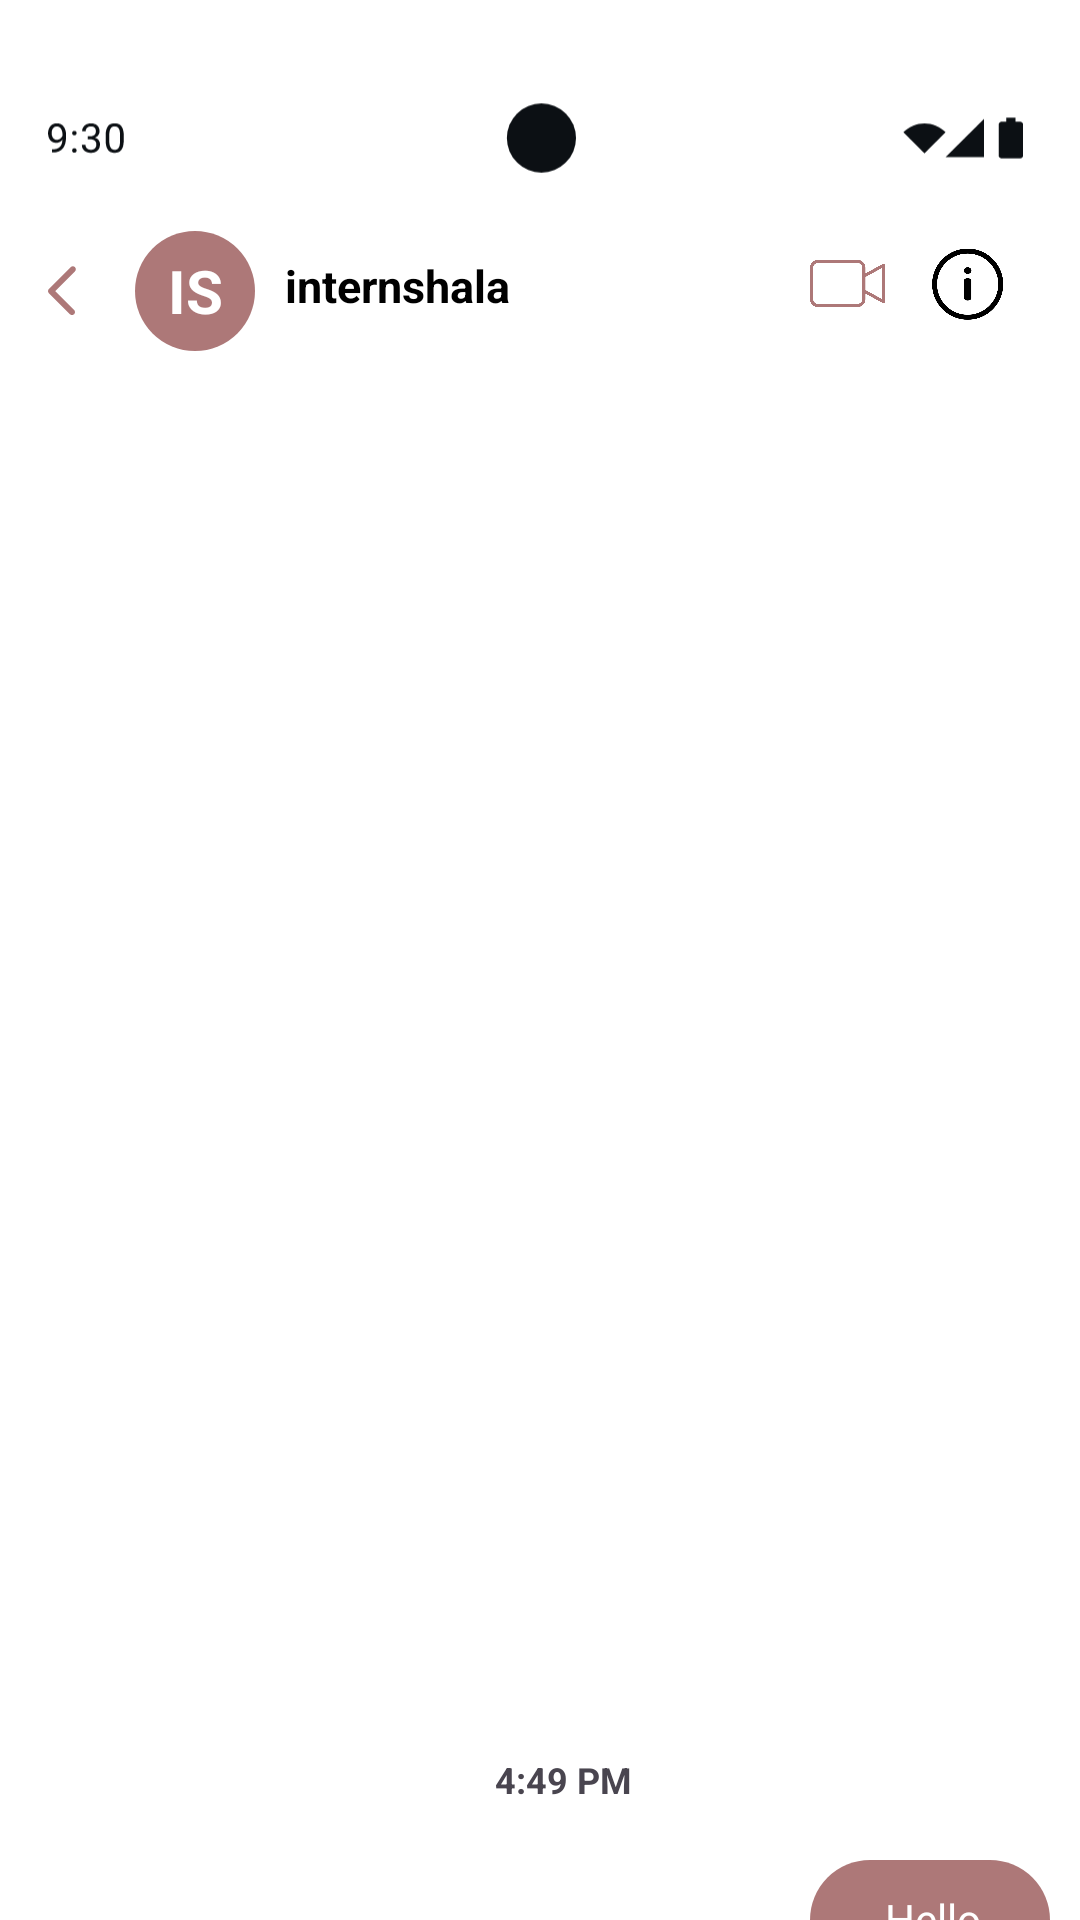

Icons on this 1080×1920 Android screen, each with the point to tap as (x=x, y=y):
chevron left: (x=62, y=290)
info: (x=967, y=284)
video: (x=847, y=283)
